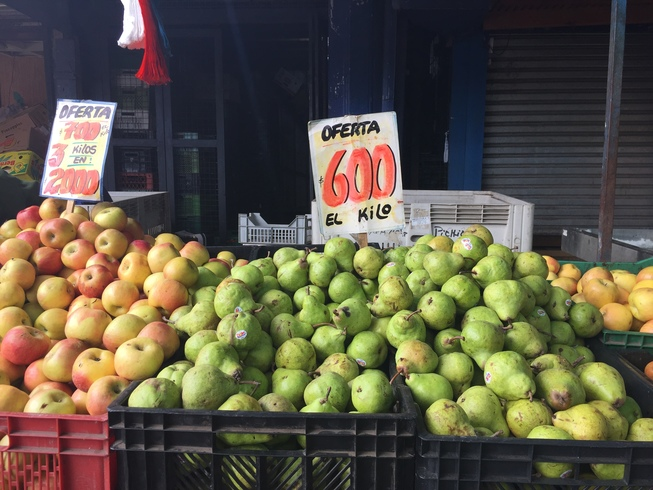precio: (300, 103, 414, 251), (29, 93, 126, 218)
